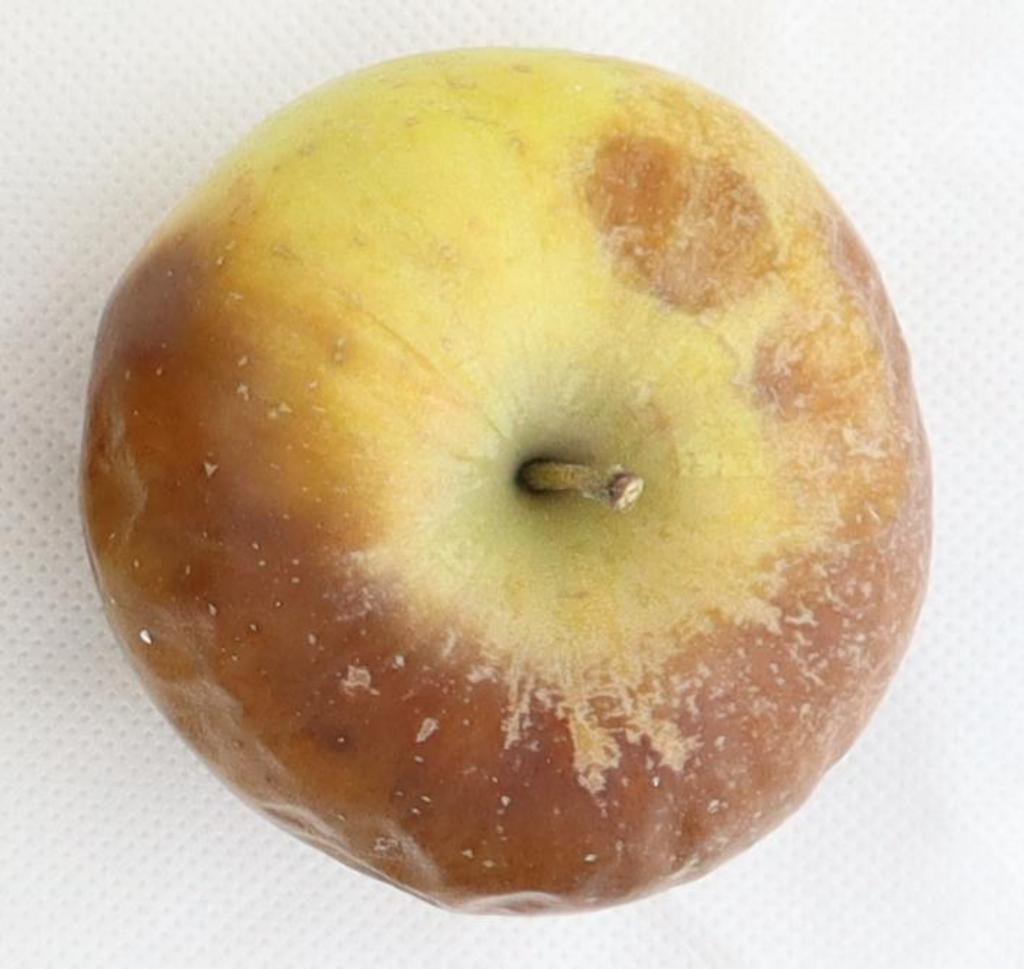apple: (81, 49, 930, 907)
rot_mold_decay: (82, 218, 929, 910), (589, 137, 768, 301)
